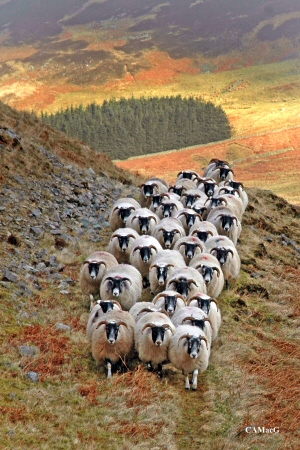sheep: (89, 319, 140, 377), (170, 264, 219, 318), (138, 312, 179, 372), (127, 230, 169, 285), (151, 249, 189, 307), (211, 235, 253, 287), (84, 247, 122, 297), (105, 272, 144, 318), (174, 319, 203, 380), (211, 160, 249, 203), (169, 172, 207, 213), (196, 253, 227, 300), (164, 231, 204, 266), (88, 288, 119, 333), (185, 219, 219, 255), (210, 183, 246, 212), (136, 204, 161, 242), (154, 222, 187, 250), (209, 209, 239, 239), (114, 197, 147, 224), (148, 181, 176, 211)
